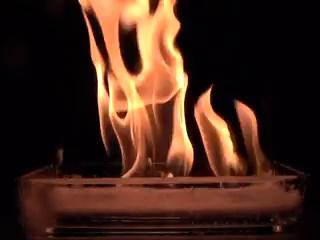Fire: (134, 34, 196, 181)
